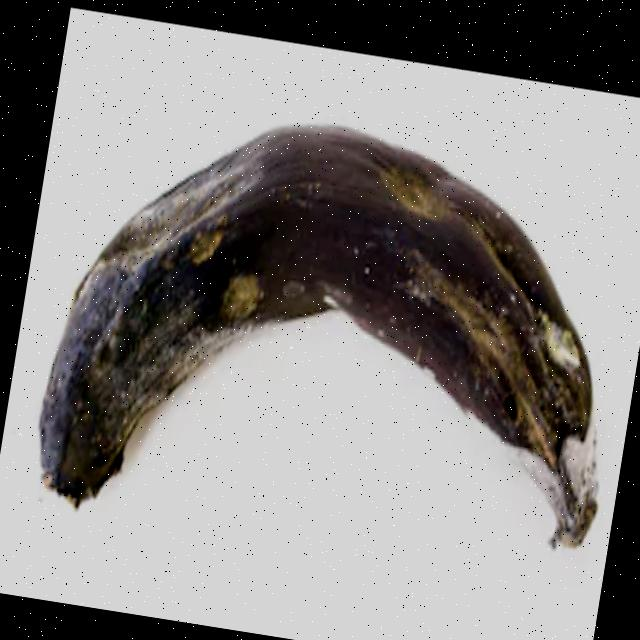Rotten: (6, 60, 640, 640)
